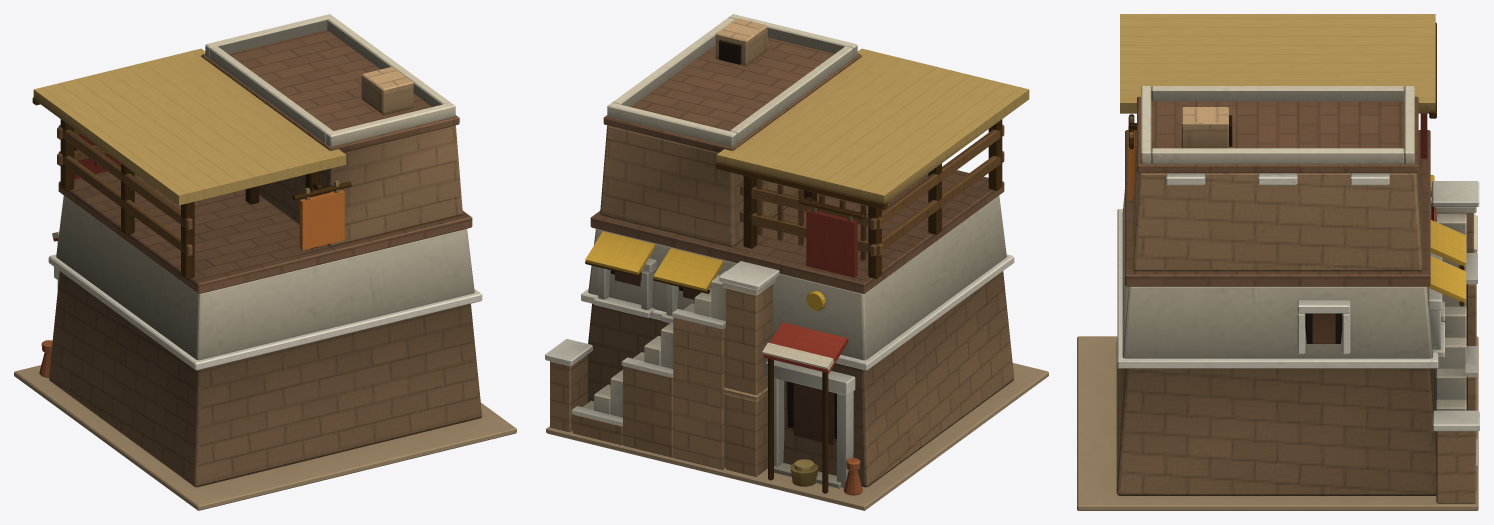
File: great_house.glb
3 views of the same model, side by side, from view 1: azimuth 30°, elevation 25°; view 2: azimuth 150°, elevation 25°; view 3: azimuth 270°, elevation 25° (orthographic). The views are drawn at different scales.
Visible parts, largest first — view 1: great_house_mud_terra, great_house_stone_pale, great_house_mud_dark, great_house_thatch_mat, great_house_dirt_apron, great_house_stone_white, great_house_wood_mid, great_house_wood_dark, great_house_cloth_orange, great_house_mud_tan; view 2: great_house_mud_terra, great_house_stone_pale, great_house_thatch_mat, great_house_mud_dark, great_house_stone_white, great_house_dirt_apron, great_house_wood_mid, great_house_wood_dark, great_house_cloth_yellow, great_house_rug_red, great_house_interior_warm, great_house_cloth_red (+3 smaller); view 3: great_house_mud_terra, great_house_stone_pale, great_house_thatch_mat, great_house_mud_dark, great_house_dirt_apron, great_house_stone_white, great_house_cloth_yellow, great_house_mud_tan, great_house_interior_warm, great_house_door_dark, great_house_wood_dark.
Boxes of the visible parts, bbox=[...] form: great_house_mud_terra: bbox=[49, 125, 481, 487]; great_house_stone_pale: bbox=[56, 14, 474, 360]; great_house_mud_dark: bbox=[58, 30, 472, 293]; great_house_thatch_mat: bbox=[33, 48, 346, 205]; great_house_dirt_apron: bbox=[14, 365, 516, 510]; great_house_stone_white: bbox=[48, 254, 482, 370]; great_house_wood_mid: bbox=[57, 125, 192, 256]; great_house_wood_dark: bbox=[32, 97, 351, 278]; great_house_cloth_orange: bbox=[299, 190, 344, 250]; great_house_mud_tan: bbox=[361, 67, 413, 114]; great_house_mud_terra: bbox=[550, 125, 1013, 487]; great_house_stone_pale: bbox=[582, 14, 1006, 488]; great_house_thatch_mat: bbox=[716, 48, 1029, 203]; great_house_mud_dark: bbox=[590, 37, 1004, 293]; great_house_stone_white: bbox=[545, 254, 1014, 487]; great_house_dirt_apron: bbox=[546, 363, 1048, 510]; great_house_wood_mid: bbox=[740, 125, 1004, 260]; great_house_wood_dark: bbox=[585, 119, 1002, 493]; great_house_cloth_yellow: bbox=[585, 231, 723, 291]; great_house_rug_red: bbox=[806, 209, 857, 277]; great_house_interior_warm: bbox=[615, 271, 834, 444]; great_house_cloth_red: bbox=[763, 322, 848, 373]; great_house_mud_terra: bbox=[1116, 147, 1476, 503]; great_house_stone_pale: bbox=[1122, 86, 1476, 442]; great_house_thatch_mat: bbox=[1120, 14, 1435, 113]; great_house_mud_dark: bbox=[1125, 96, 1430, 286]; great_house_dirt_apron: bbox=[1077, 336, 1478, 510]; great_house_stone_white: bbox=[1117, 173, 1479, 469]; great_house_cloth_yellow: bbox=[1427, 220, 1466, 302]; great_house_mud_tan: bbox=[1181, 107, 1228, 148]; great_house_interior_warm: bbox=[1312, 313, 1335, 343]; great_house_door_dark: bbox=[1229, 115, 1342, 343]; great_house_wood_dark: bbox=[1128, 22, 1464, 306].
Size of the model in its own units: 3.06 by 3.01 by 3.06.
21 materials, 19 textured.
